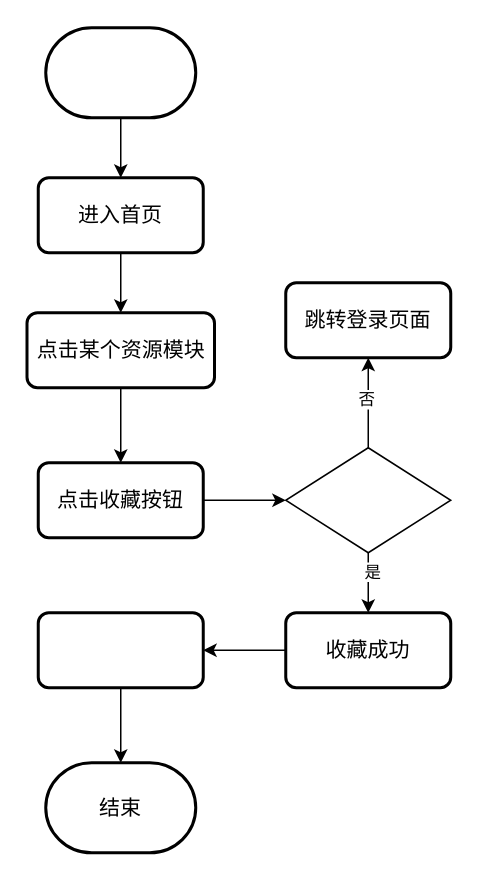
Some shapes in this 479 by 879 pixel diagram are drawn without their labels. Each missing label, with the centre of its shape:
"开始" goes at (x=120, y=72).
"是否已登录" goes at (x=367, y=499).
"查看个人收藏夹" goes at (x=120, y=649).
